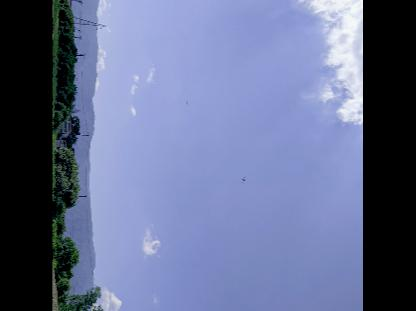Tornado: (242, 174, 245, 182), (186, 99, 189, 106)
